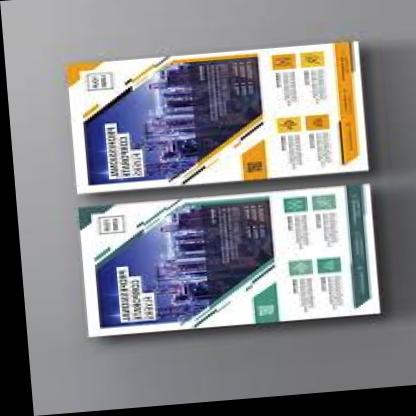Paper: (15, 27, 416, 384)
